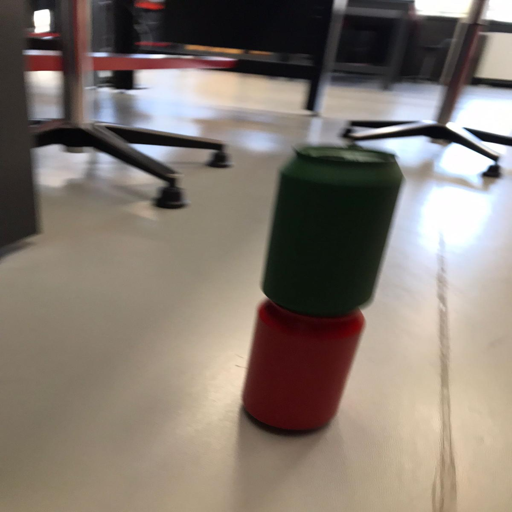Green_Can: (256, 141, 406, 320)
Red_Can: (239, 305, 366, 435)
